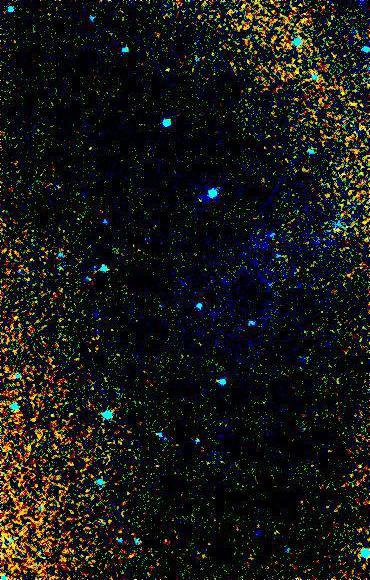star: (157, 57, 187, 87)
